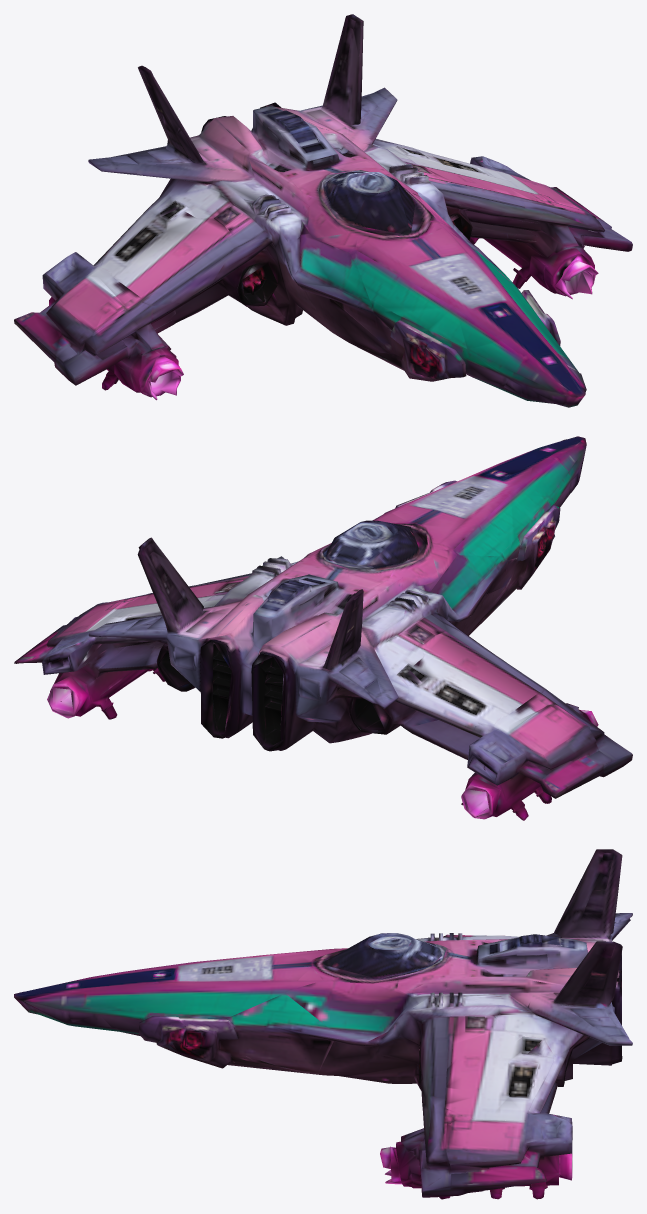
Rendered from player-ship.glb.
3 views of the same model, one above another, from view 1: azimuth 30°, elevation 25°; view 2: azimuth 150°, elevation 25°; view 3: azimuth 270°, elevation 25° (orthographic). The views are drawn at different scales.
Parts seen in each view (by area): view 1: node_0; view 2: node_0; view 3: node_0.
Part boxes in pixels (box(x1,y1,x2,y2)): node_0: box(14, 14, 632, 407); node_0: box(14, 436, 632, 820); node_0: box(14, 849, 632, 1199).
Bounding box in the file's own units: 0.947 × 0.3617 × 1.01.
Materials: 1 (1 with a texture image).
